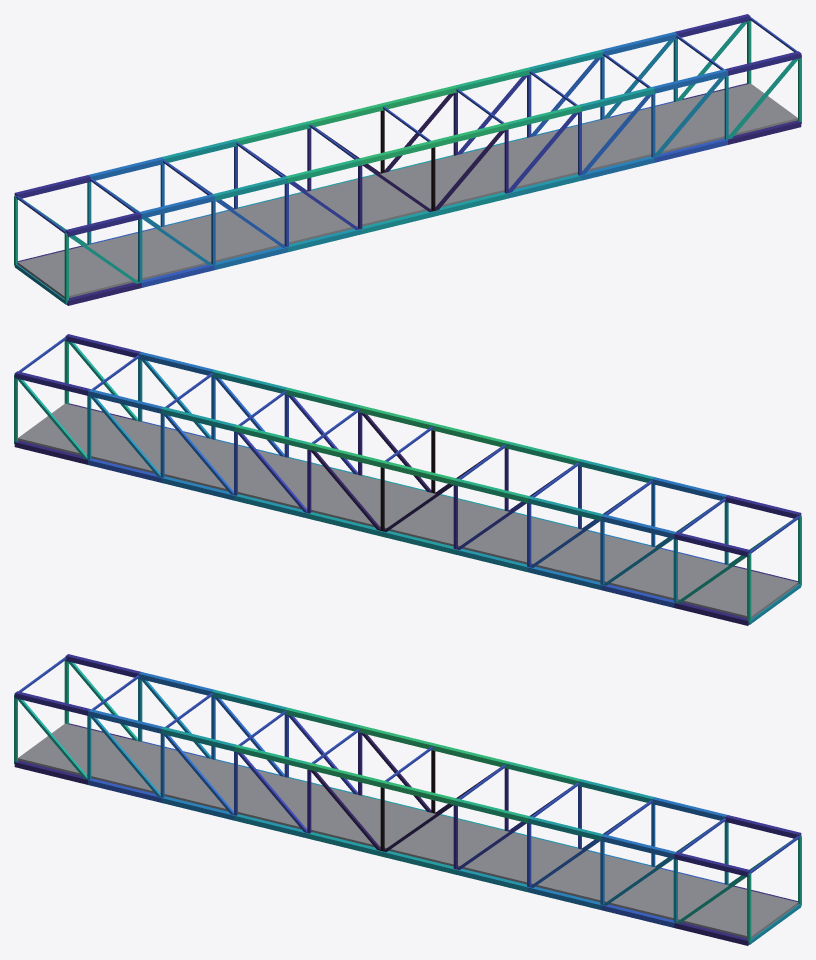
Rendered from 25_2.25_10_HEA200.glb.
3 views of the same model, one above another, from view 1: azimuth 30°, elevation 25°; view 2: azimuth 150°, elevation 25°; view 3: azimuth 330°, elevation 25° (orthographic).
Size of the model in its own units: 25.09 by 2.41 by 3.16.
